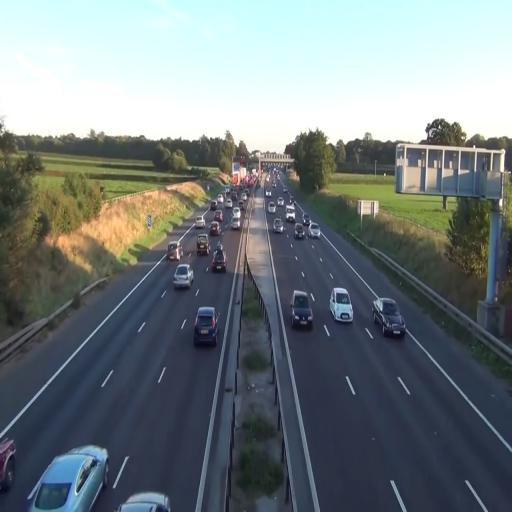vehicle: (26, 443, 109, 511), (377, 298, 405, 340), (119, 490, 170, 512), (193, 306, 219, 347), (291, 291, 314, 330), (330, 287, 353, 322), (173, 264, 194, 289), (210, 244, 226, 273), (166, 239, 182, 263), (196, 233, 210, 256), (273, 218, 284, 234), (310, 222, 320, 236)
